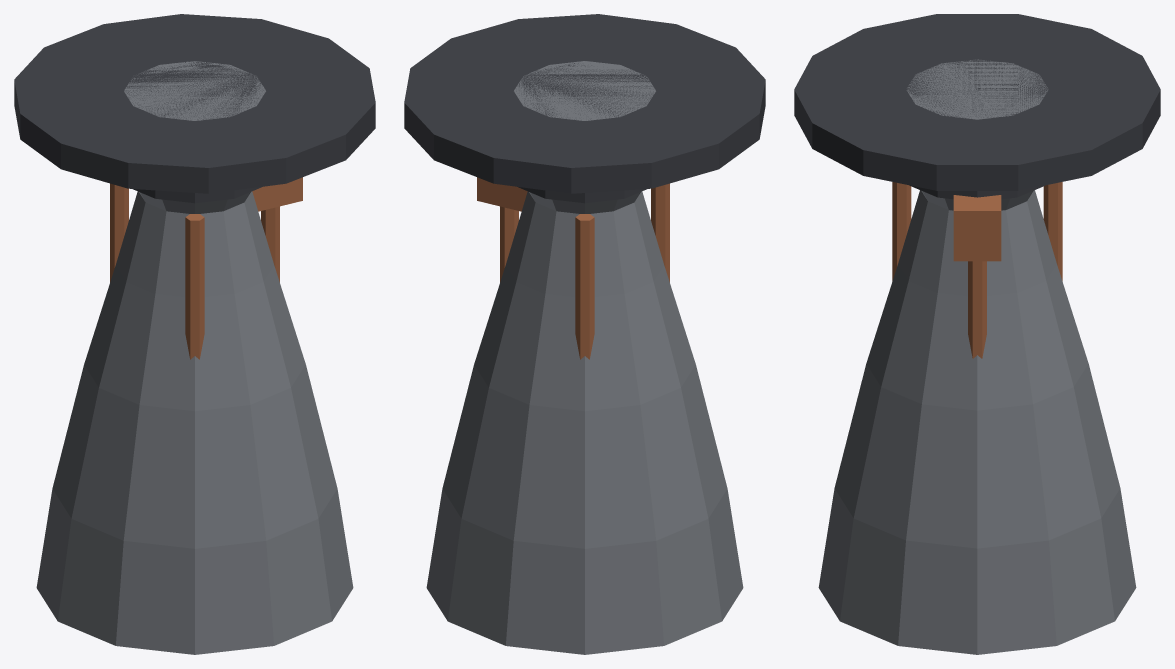
Rendered from Eng_M_Vac.fbx.
3 renders of one model, left to right at view 1: azimuth 30°, elevation 25°; view 2: azimuth 150°, elevation 25°; view 3: azimuth 270°, elevation 25°, orthographic.
Visible parts, largest first — view 1: Eng_M_Vac; view 2: Eng_M_Vac; view 3: Eng_M_Vac.
Part boxes in pixels (x1=…): Eng_M_Vac: x1=14, y1=14, x2=375, y2=654; Eng_M_Vac: x1=404, y1=14, x2=765, y2=654; Eng_M_Vac: x1=794, y1=14, x2=1160, y2=654.
Bounding box in the file's own units: 1.75 × 2.7 × 1.8.
Materials: 1 (1 with a texture image).
